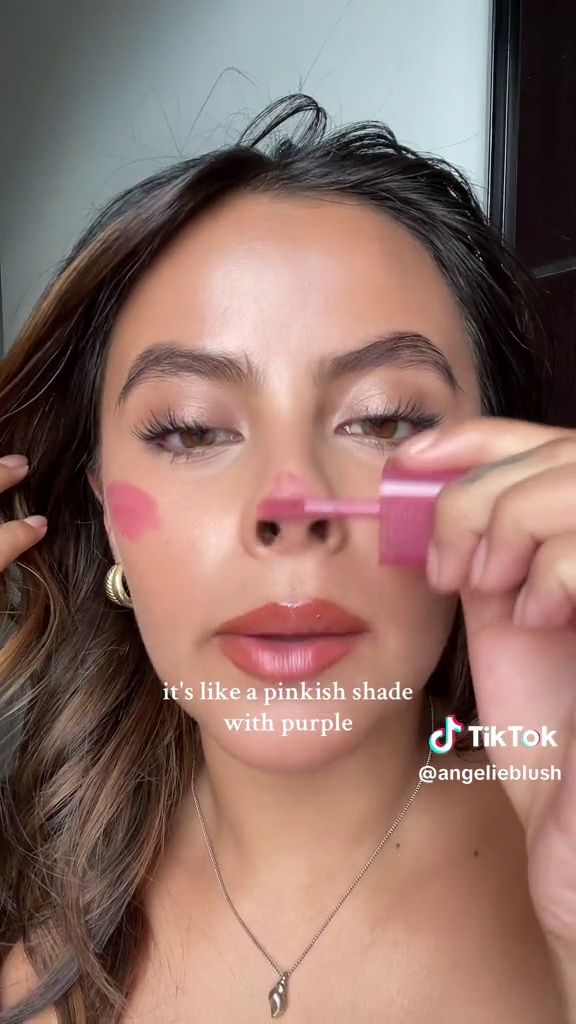train' :'yolo_data/train/images',: (264, 441, 544, 574)
